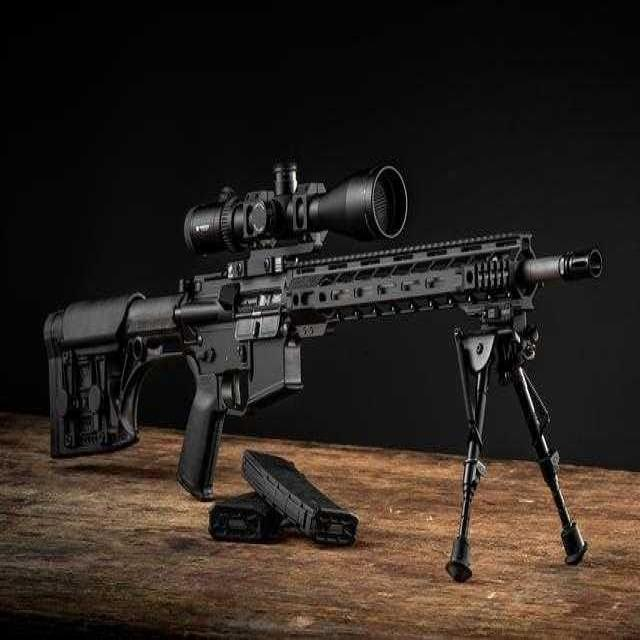Rifle: (33, 138, 623, 468)
